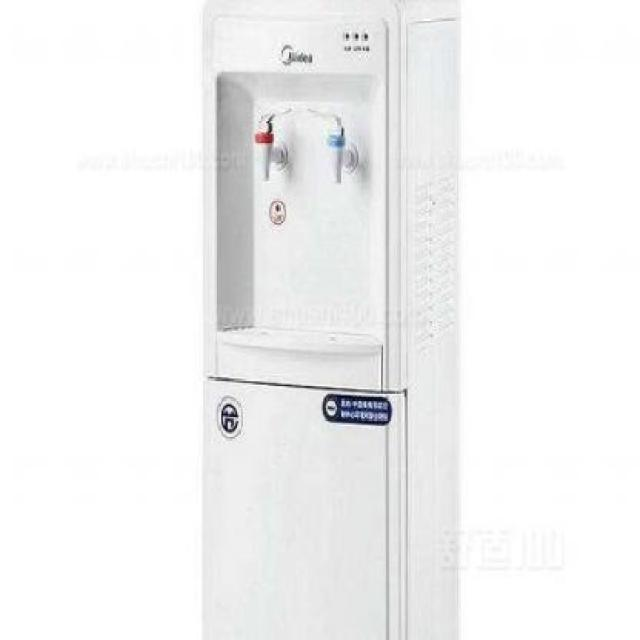cooler: (198, 0, 462, 640)
